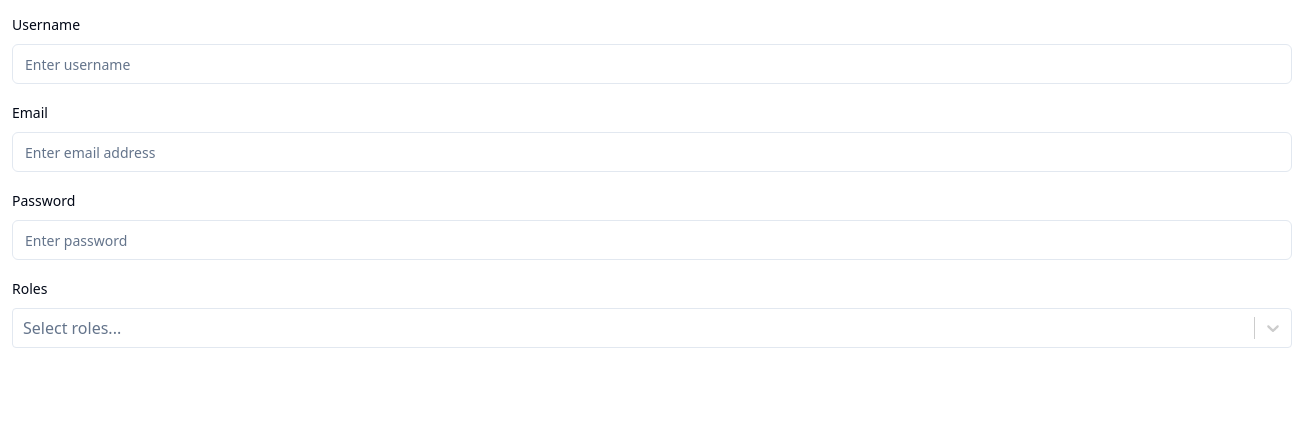
it: AddUser › shows validation error for short username
This screenshot has width=1304, height=444.
Type "ab" into the field labelled "Username" at (652, 64), box [12,44,1292,84]
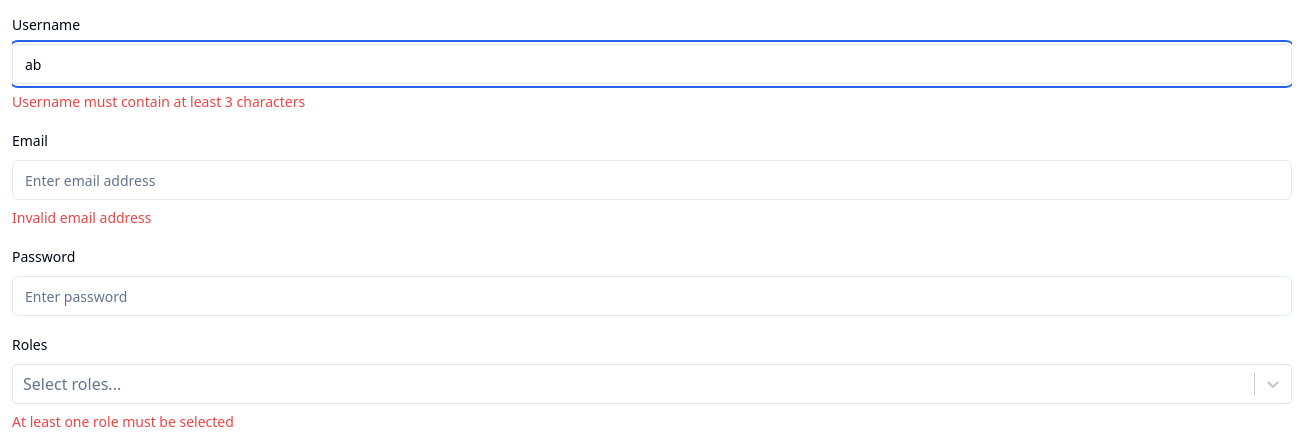
Check: the text "Username must contain at least 3 characters" is shown, box [12,92,305,111]
